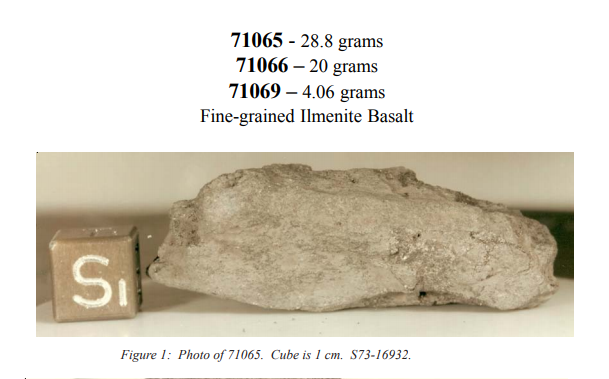Basalt: (154, 185, 564, 312), (225, 203, 506, 298)
